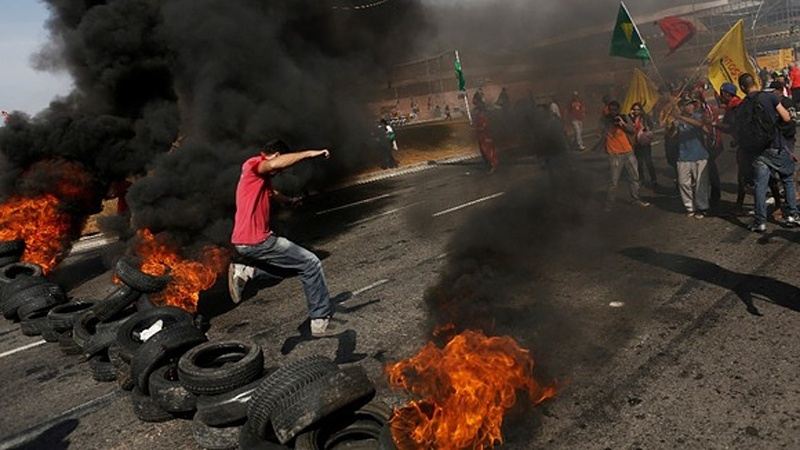fire: (0, 171, 227, 311), (385, 321, 550, 450), (136, 229, 227, 310)
